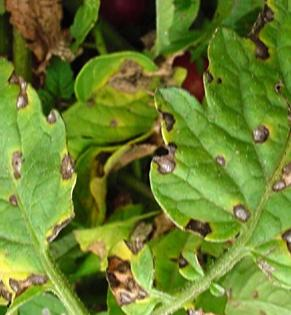Tomato leaf bacterial spot: (129, 0, 291, 276), (0, 22, 85, 315), (48, 37, 177, 160), (91, 235, 185, 315)
